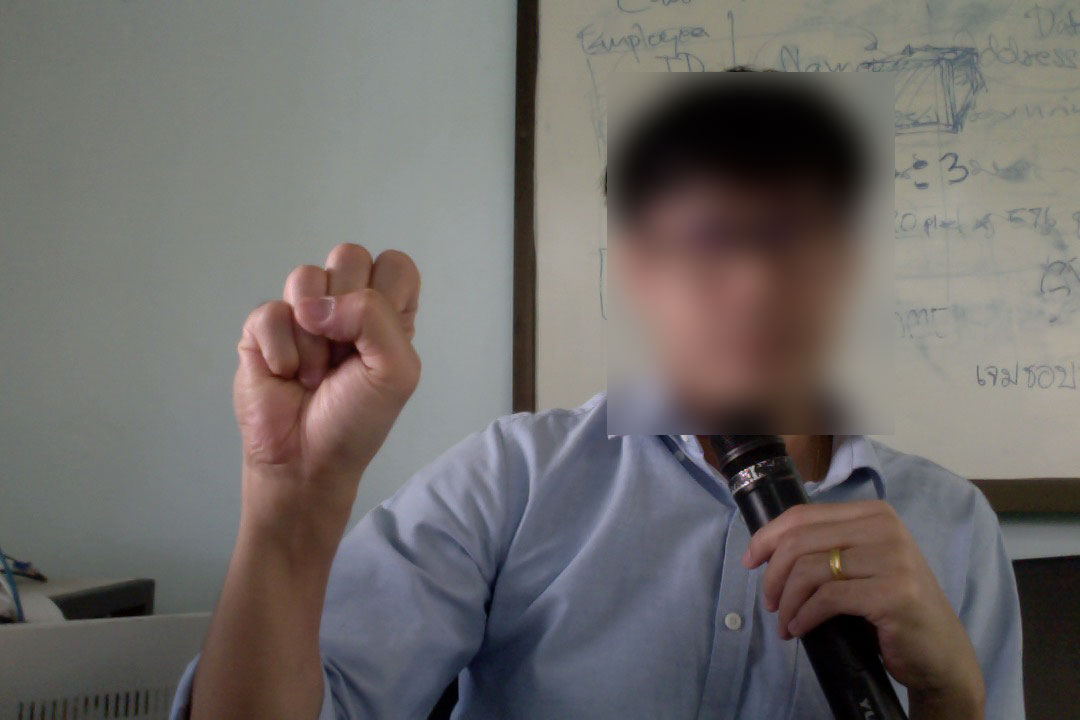sor: (226, 235, 425, 498)
